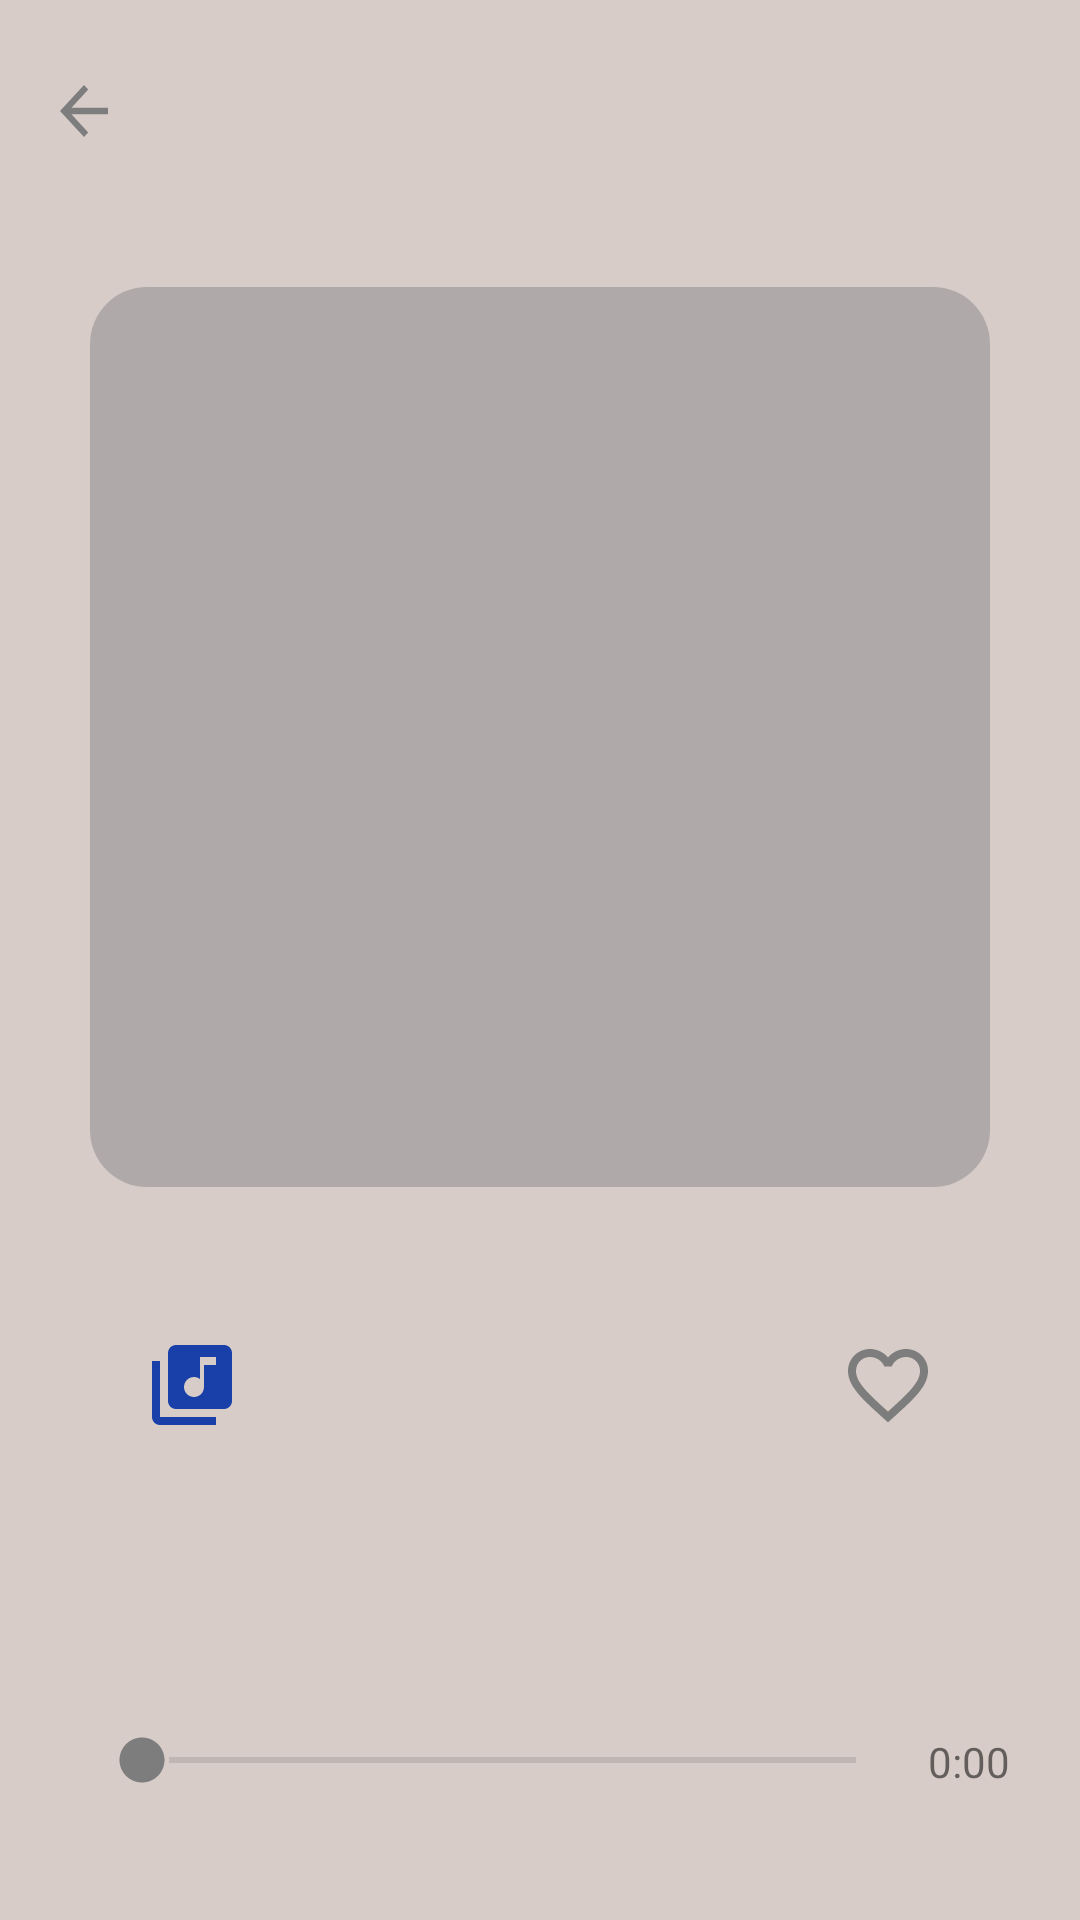

Point at icon controls on the screen. Image size 1080*1920, points as (x=x, y=y).
fav empty: (x=888, y=1385)
go back: (x=84, y=111)
